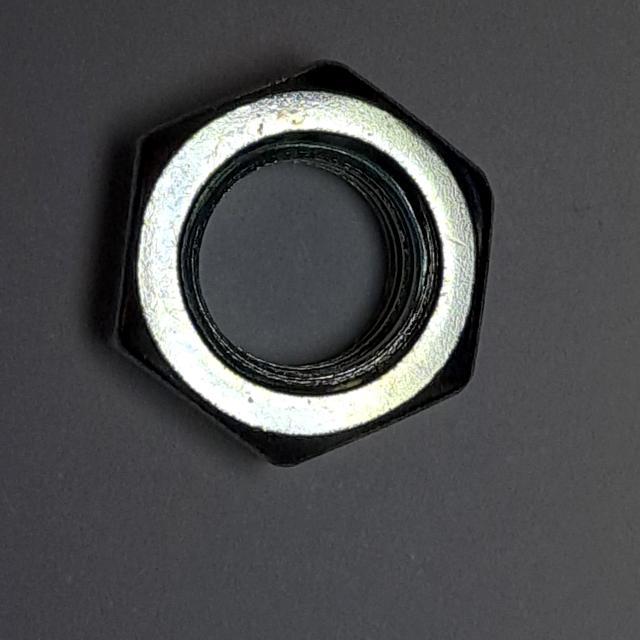Excellent: (96, 45, 510, 479)
